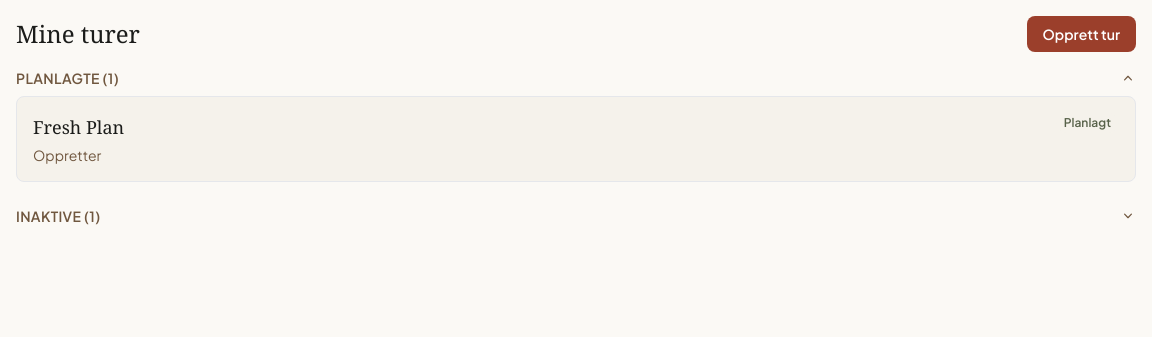
TripDashboardScreen › moves planned trips without activity for over a week into a collapsed Inactive group
Expected: the text "Fresh Plan" is shown, [33,113,124,141]
Expected: the text "Stale Plan" is not shown
What coordinates should you click on to do the following:
click the button "Inaktive (1)"
I would click on:
 (49, 216)
Its box is [16,206,1136,226].
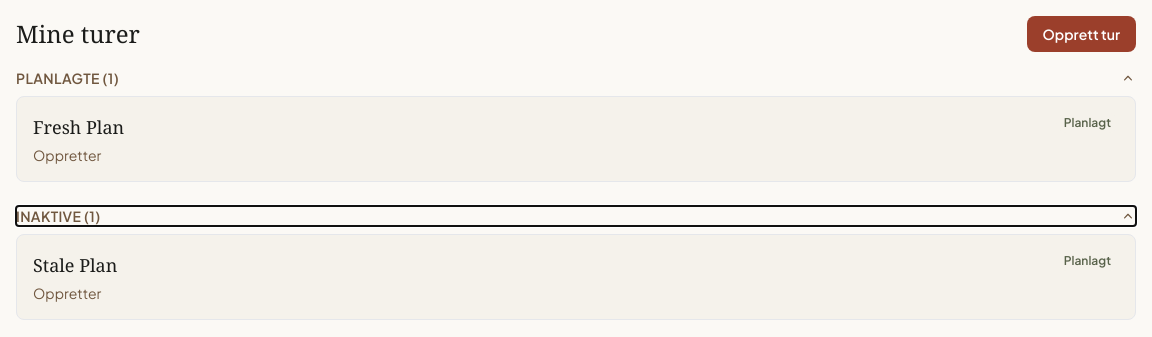
Now the text "Stale Plan" is shown, box [33,251,117,279]
